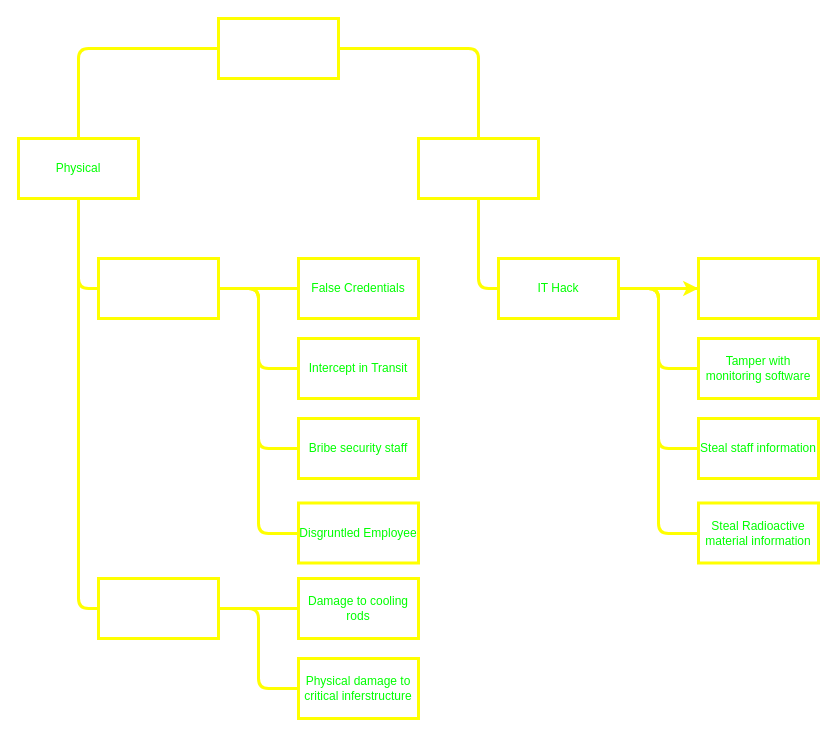
Some shapes in this 837 by 737 pixel diagram are drawn without their labels. The shapes that lost their labels are listed below. From the top down, each one's box as (x1, y1, x2, y2) in pixels, then its label:
(216, 16, 340, 80): French Power Plant
(416, 136, 540, 200): Digital
(96, 256, 220, 320): Steal Radioactive Material
(696, 256, 820, 320): DDOS Attack
(96, 576, 220, 640): Melt-down
